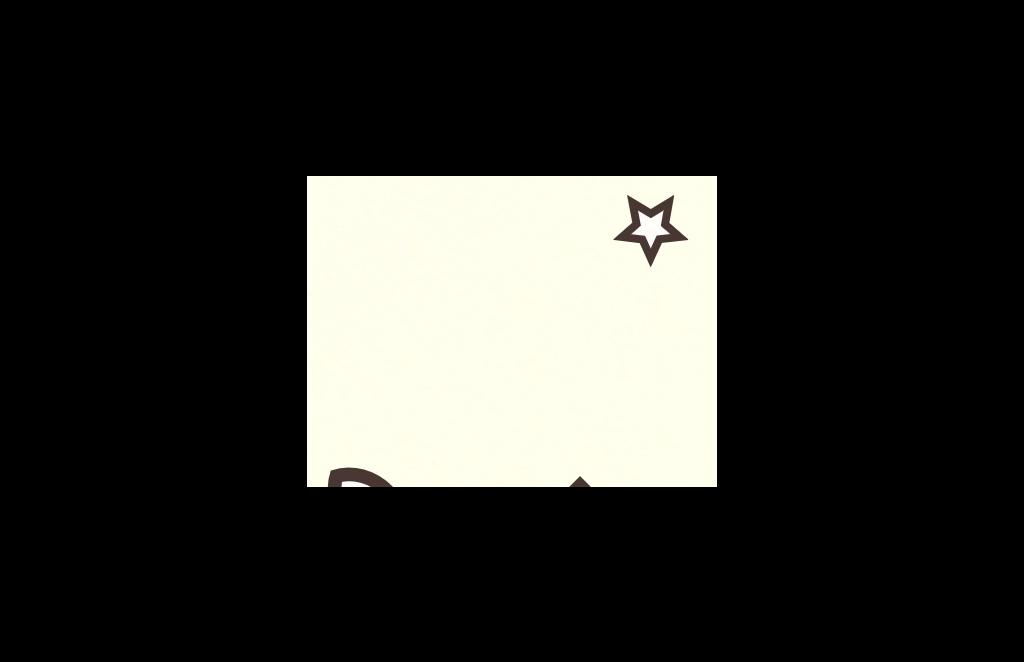unconnected_station: (604, 187, 700, 280), (317, 453, 419, 486), (538, 476, 621, 486)
